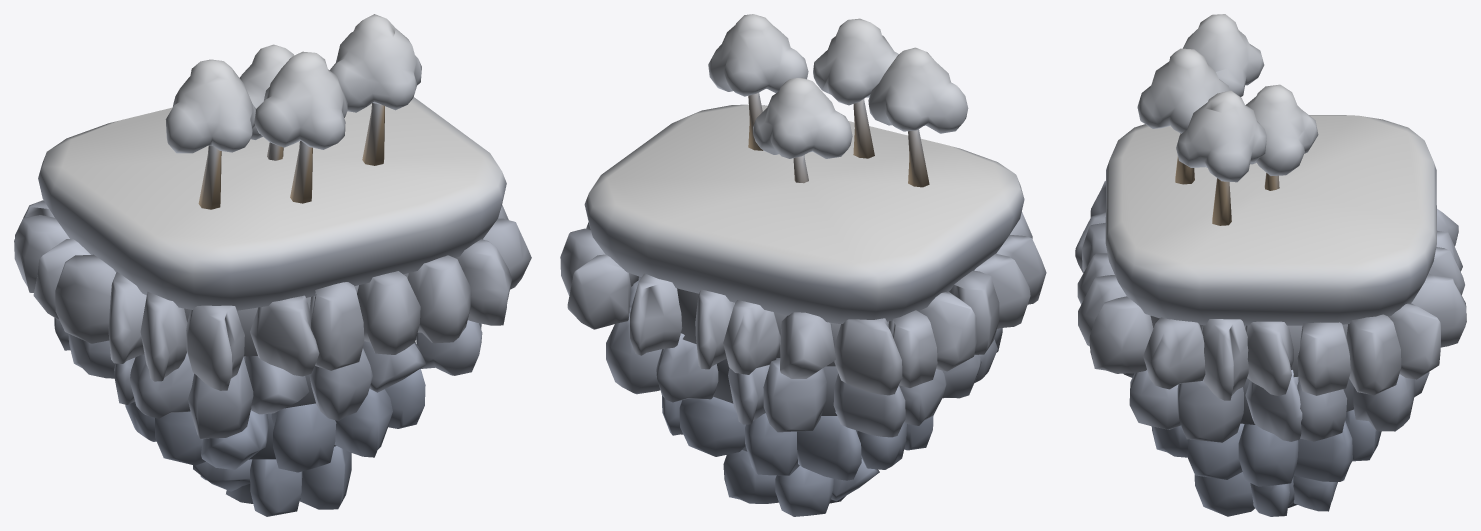
File: far_waterfall.glb
3 renders of one model, left to right at view 1: azimuth 30°, elevation 25°; view 2: azimuth 150°, elevation 25°; view 3: azimuth 270°, elevation 25°, orthographic. The views are drawn at different scales.
Parts seen in each view (by area): view 1: far_waterfall; view 2: far_waterfall; view 3: far_waterfall.
Part boxes in pixels (<box>): far_waterfall: <box>14,14,531,516</box>; far_waterfall: <box>560,14,1046,516</box>; far_waterfall: <box>1075,14,1466,516</box>.
Bounding box in the file's own units: 3.64 × 3.94 × 3.18.
